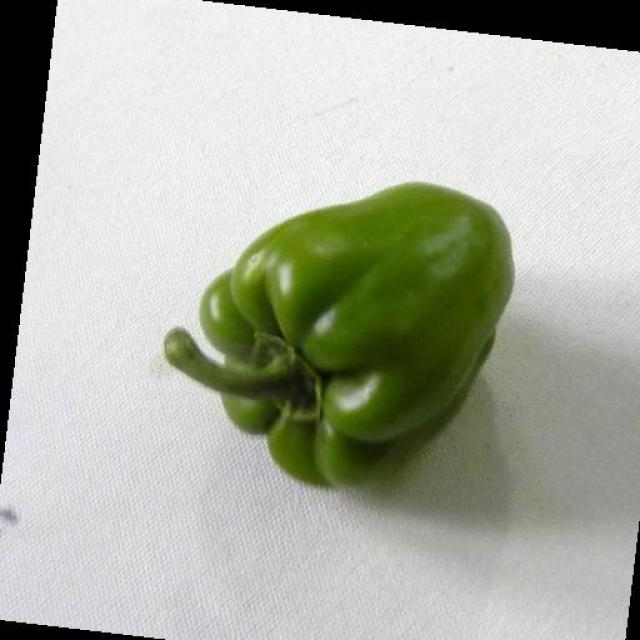Fresh_Capsicum: (180, 122, 530, 480)
